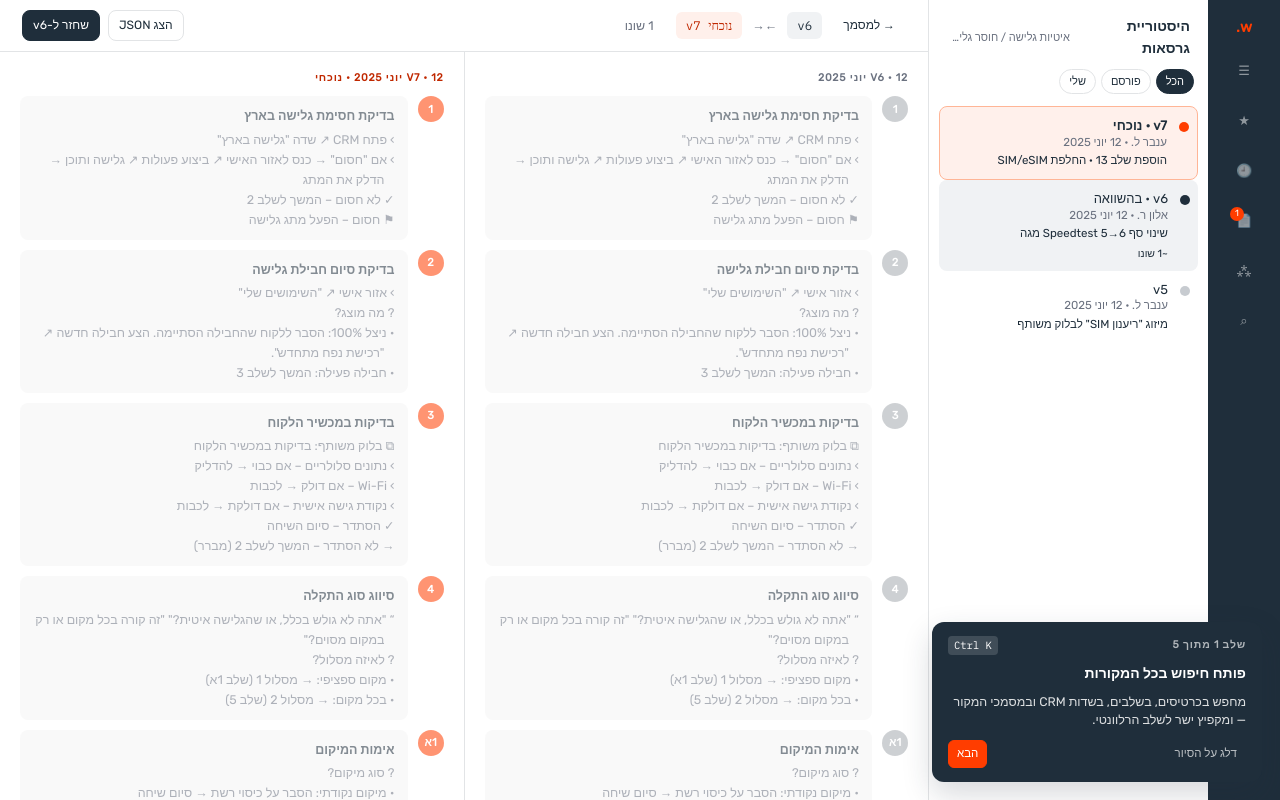
Test case: <HistoryPage> › restores through the confirmation dialog
Click the button "שחזר ל-v6": click(61, 26) left=22, top=10, right=100, bottom=41
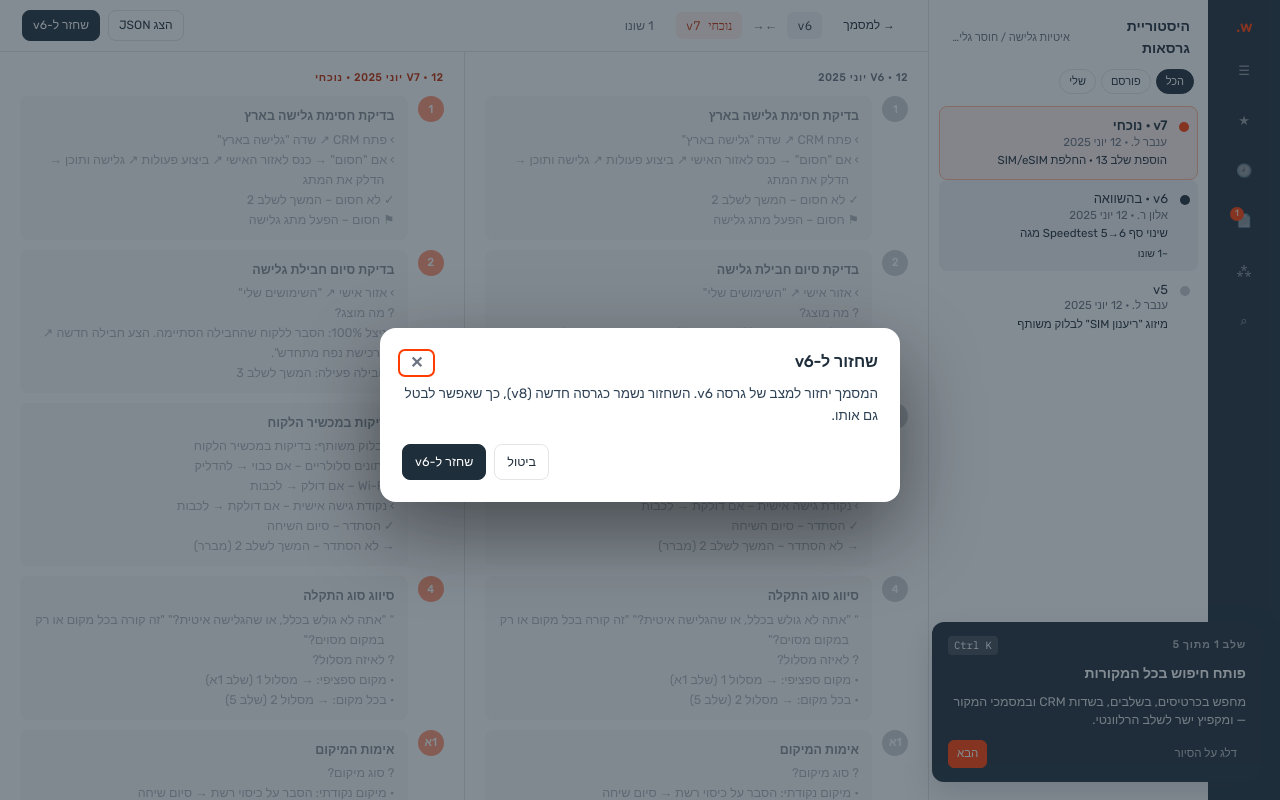
Click the button "שחזר ל-v6": click(444, 462) left=402, top=444, right=486, bottom=480
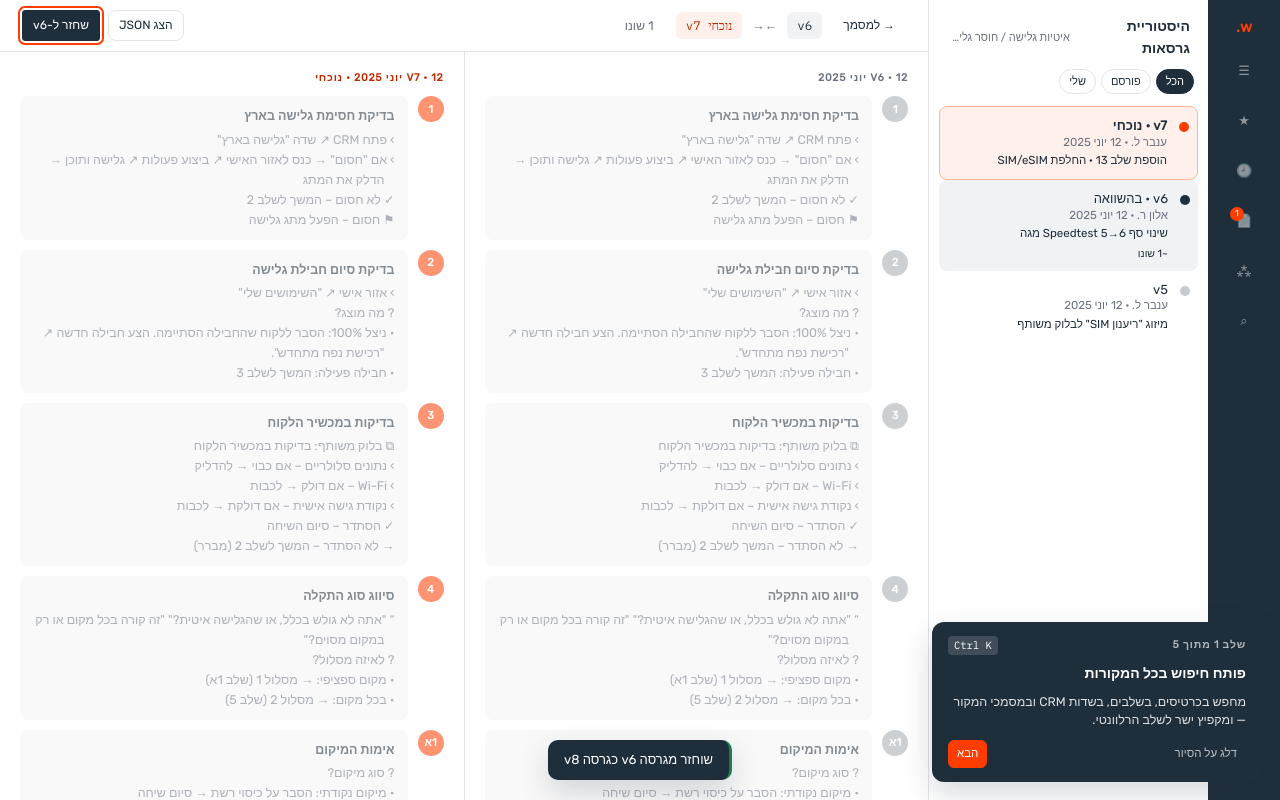
Expected: the text "שוחזר מגרסה v6 כגרסה v8" is shown, left=564, top=750, right=713, bottom=770
